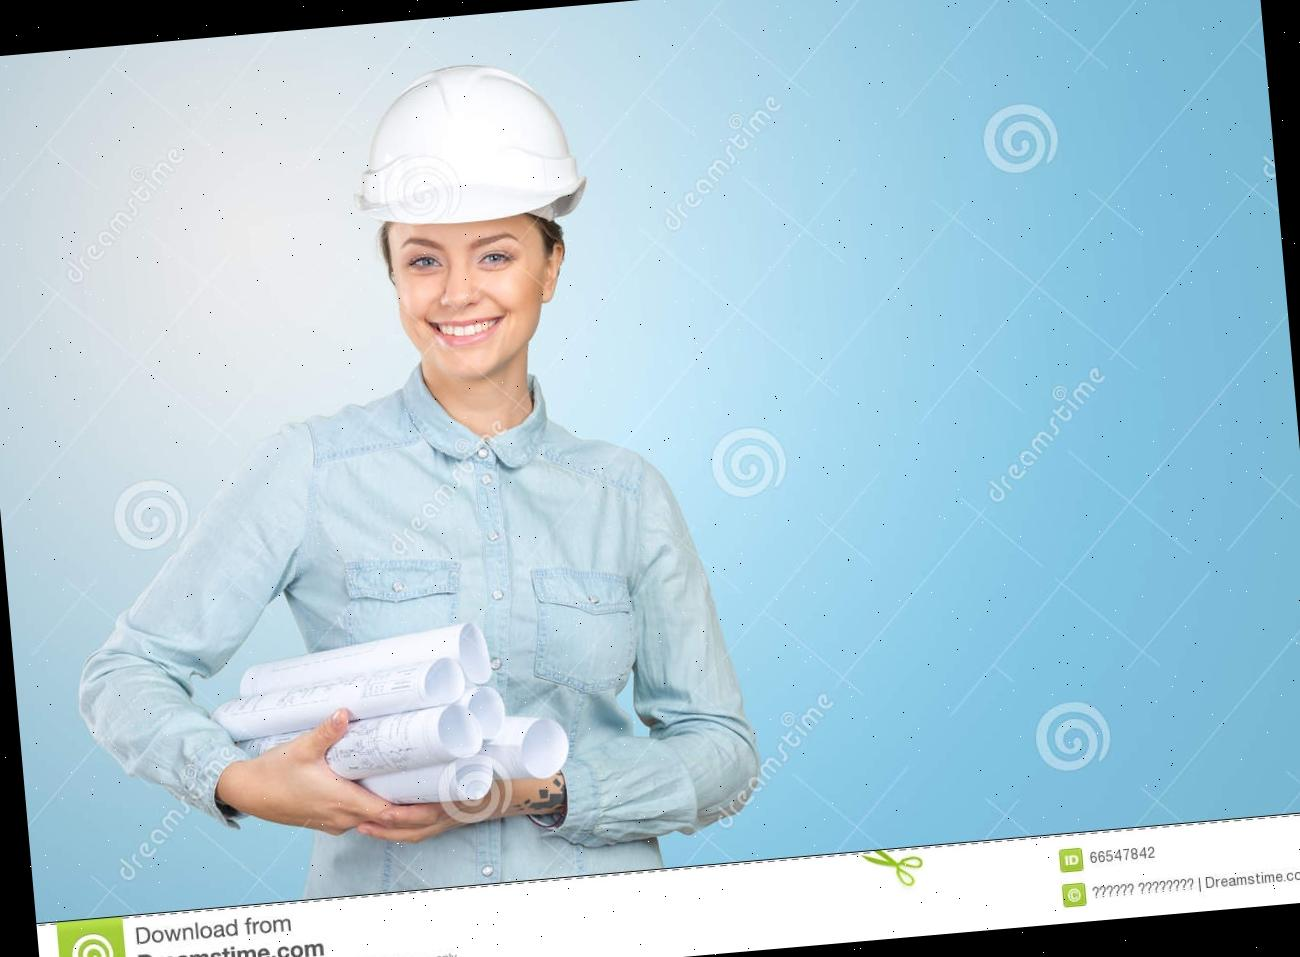helmet: (337, 47, 600, 251)
no_wear: (61, 408, 770, 919)
